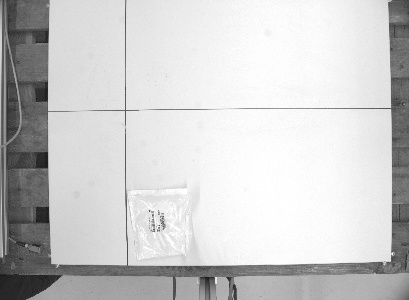t3: (125, 184, 193, 262)
